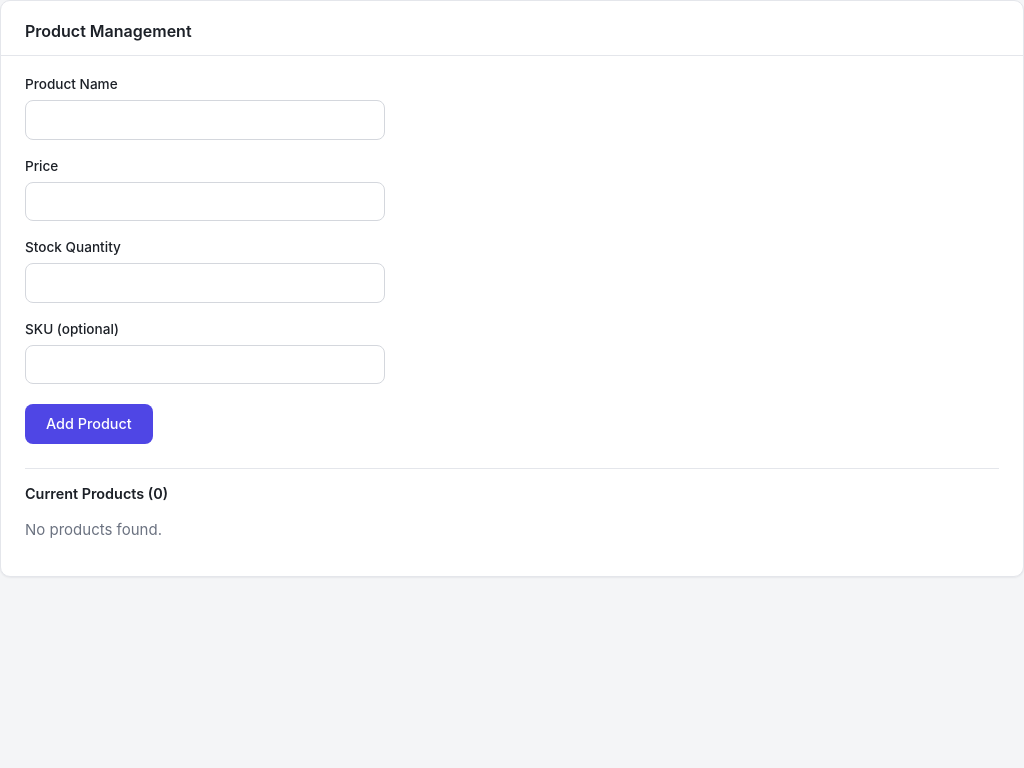
ProductManagement › rejects a missing price
Expected: the text "No products found." is shown, top-left (25, 520), bottom-right (162, 539)
Type "Widget" into the field labelled "Product Name" at (205, 120), box top-left (25, 100), bottom-right (385, 140)
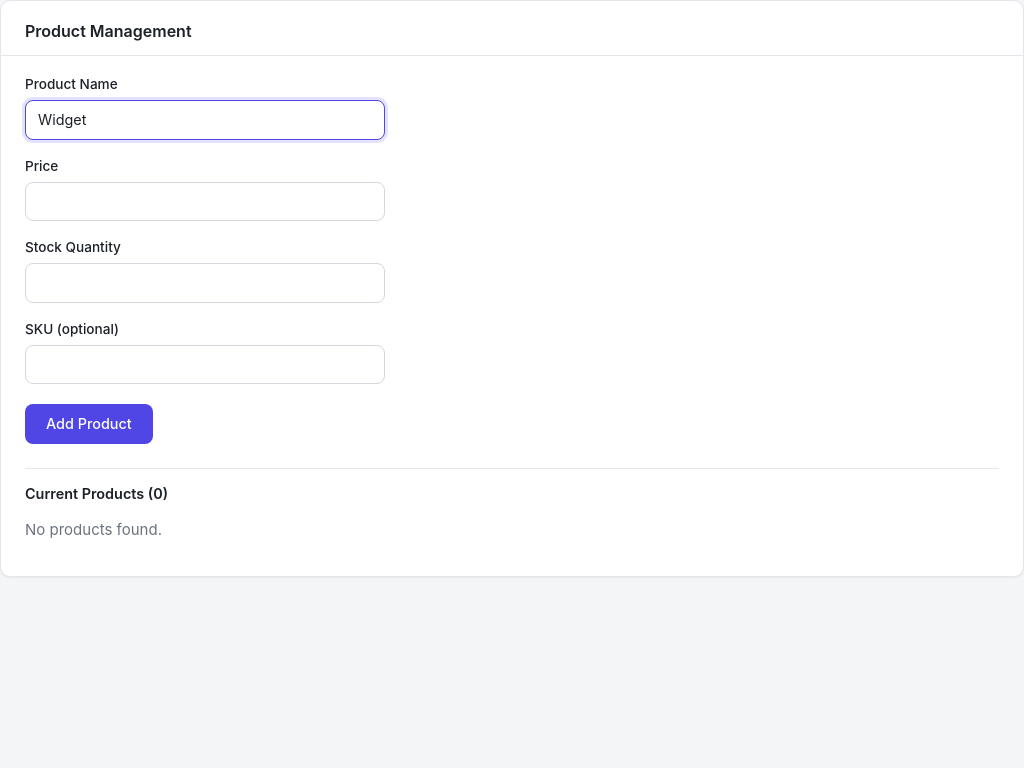
Type "5" into the number field labelled "Stock Quantity" at (205, 283), box top-left (25, 263), bottom-right (385, 303)
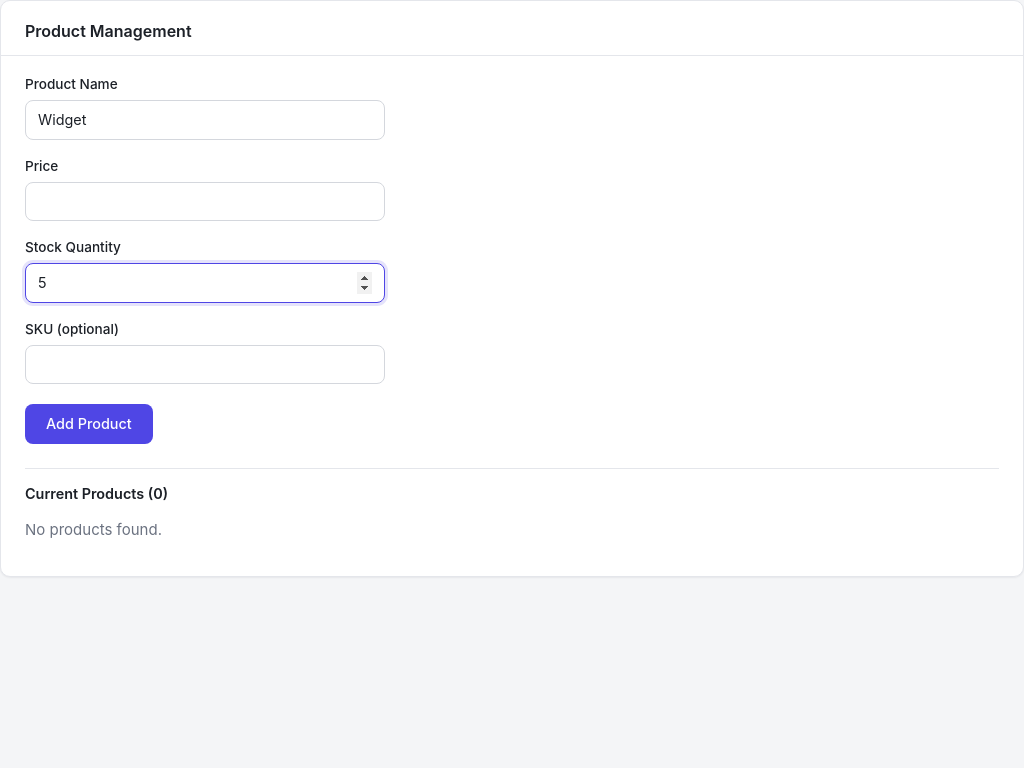
Click the button "Add Product" at (89, 424), box top-left (25, 404), bottom-right (153, 444)
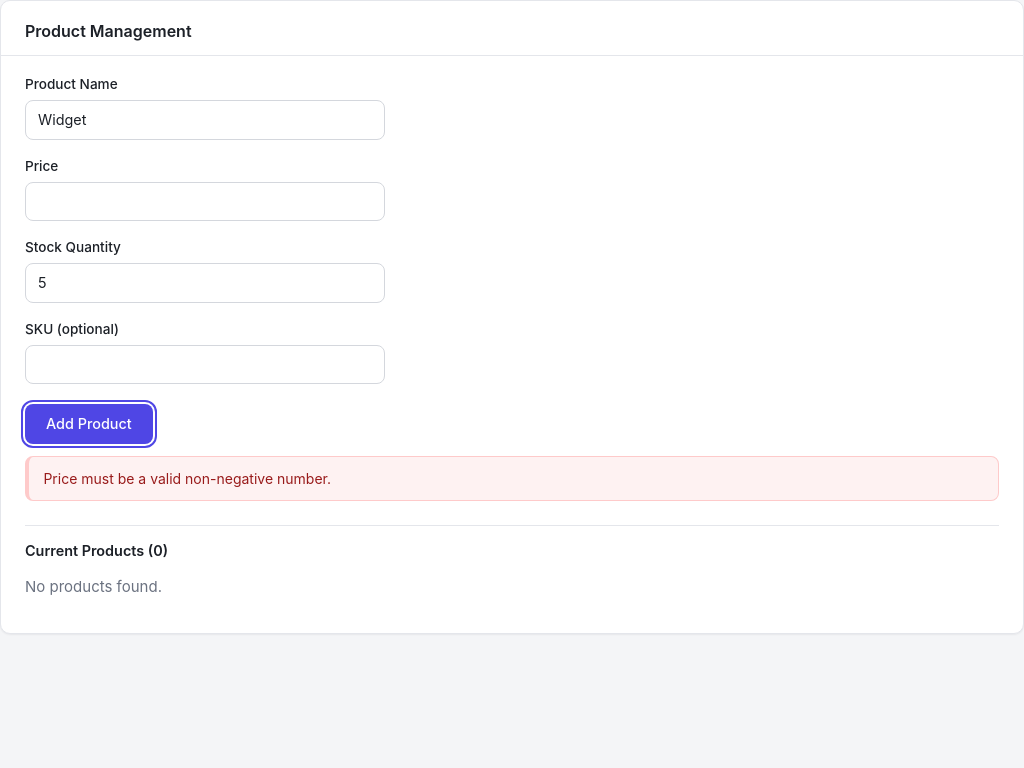
Result: the text "Price must be a valid non-negative number." is shown at top-left (25, 456), bottom-right (999, 501)
